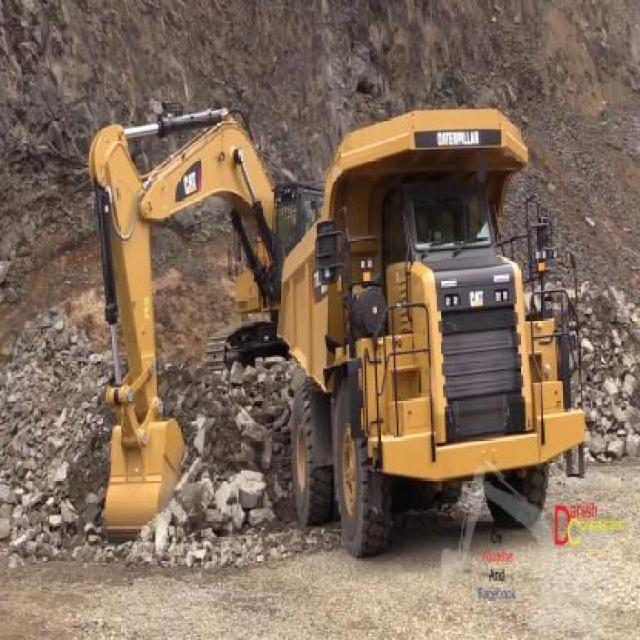Dump Truck: (277, 107, 585, 558)
Excavator: (88, 107, 324, 541)
